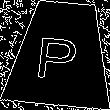P_N: (37, 26, 85, 81)
